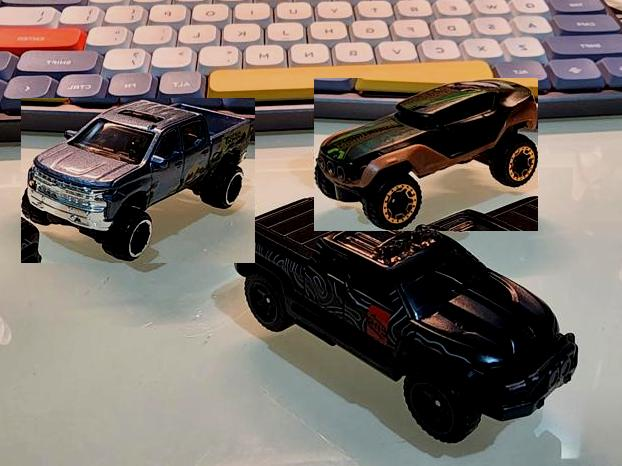toy-car: (233, 195, 578, 444), (20, 99, 254, 264), (314, 79, 538, 232)
